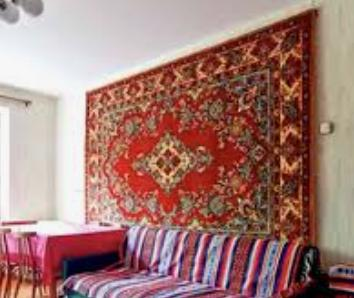carpet: (88, 10, 316, 244)
